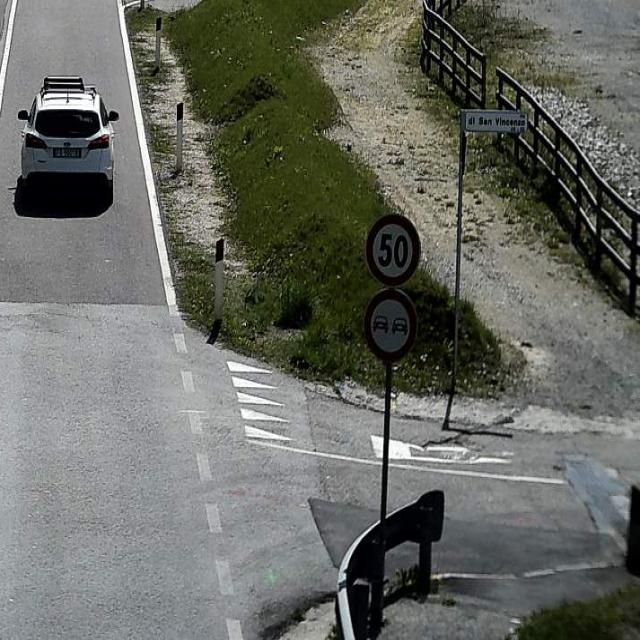car: (19, 85, 118, 193)
